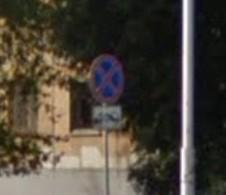No Parking: (89, 54, 125, 105)
